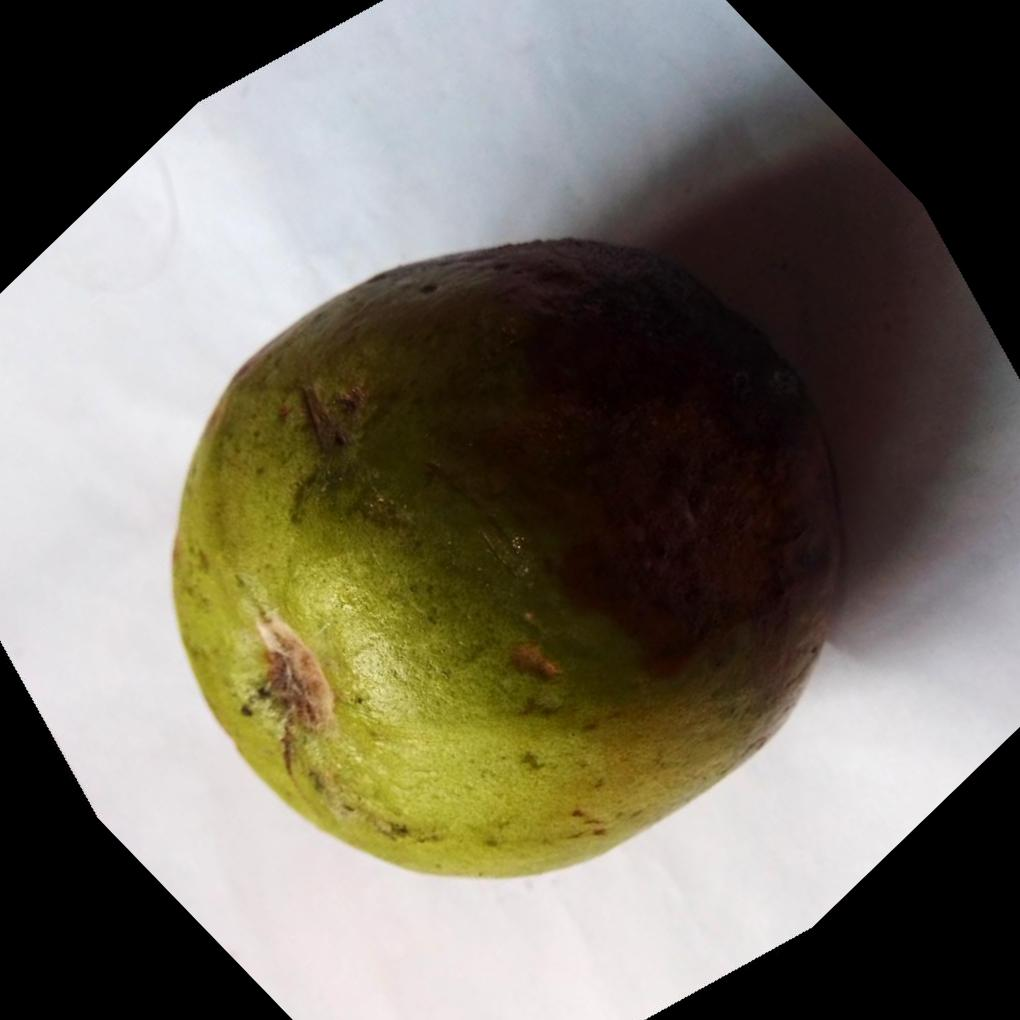FreshOrange: (171, 236, 851, 885)
